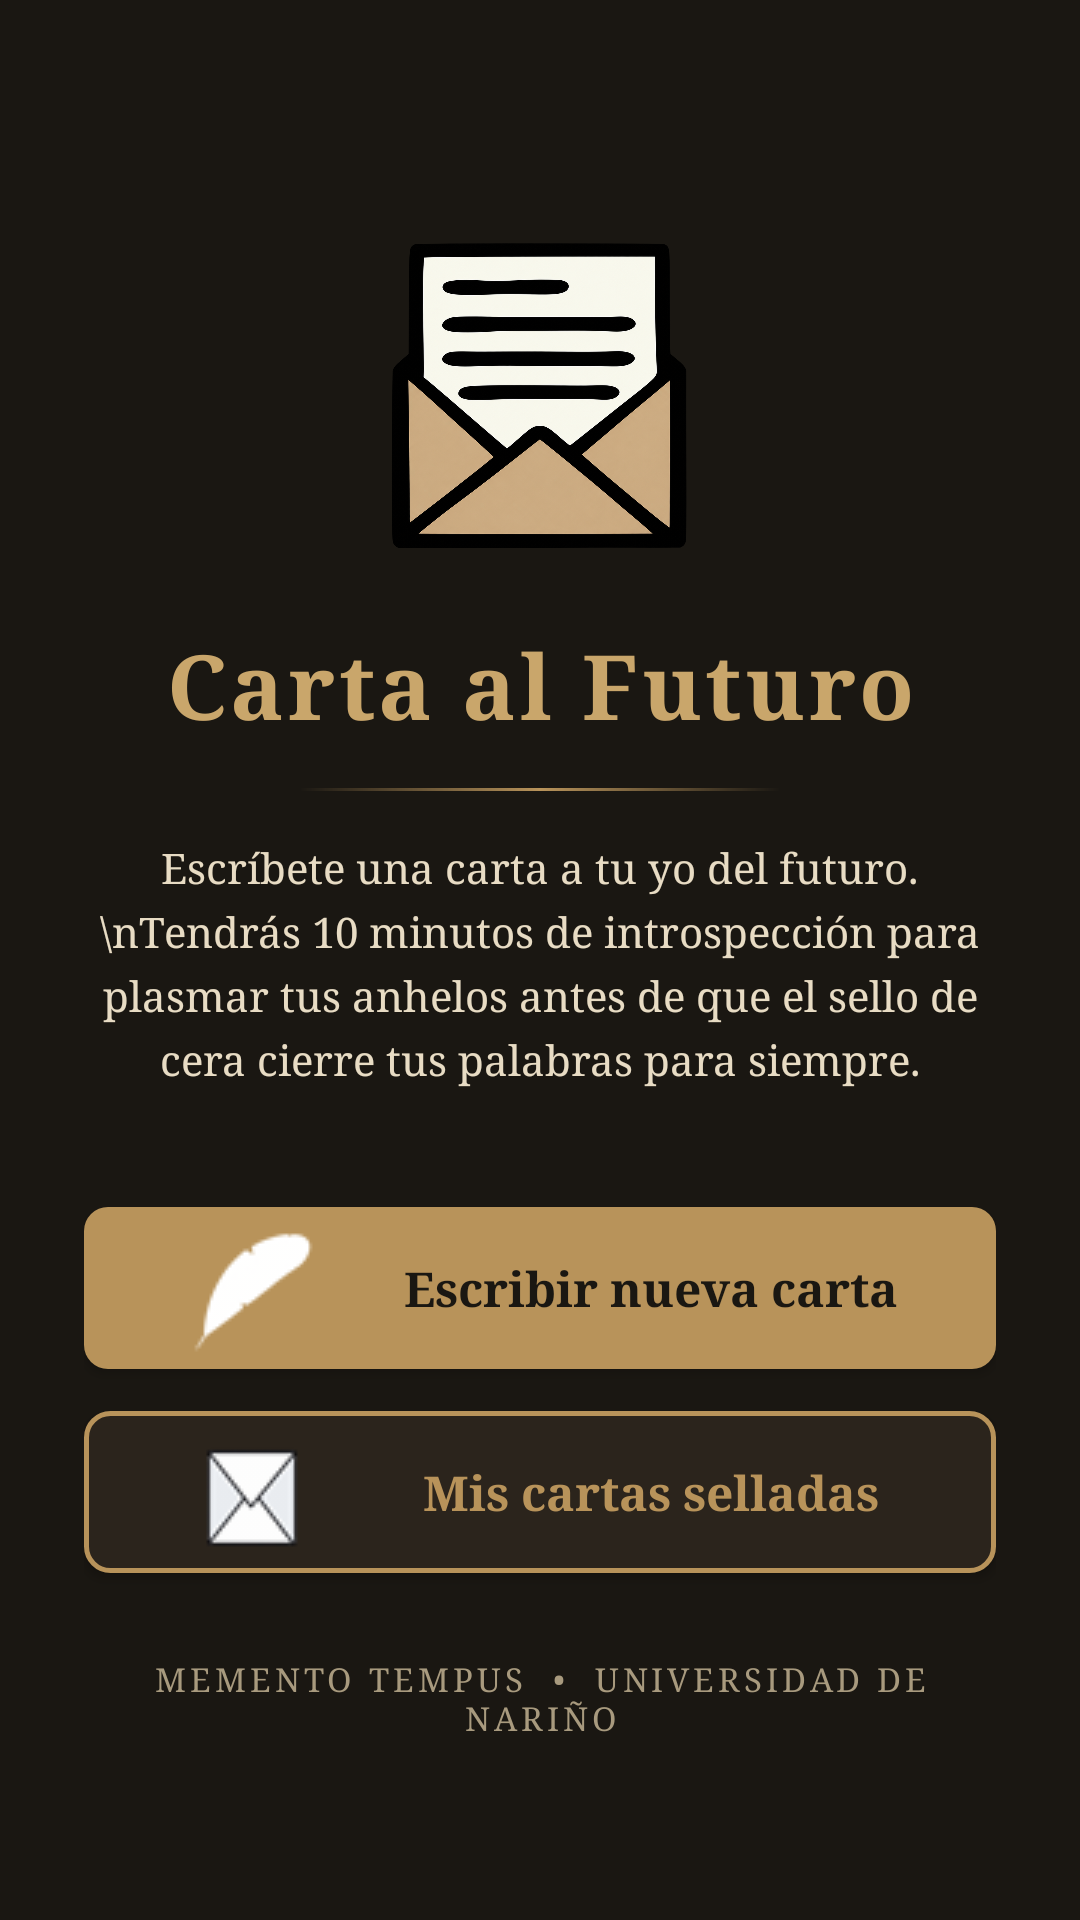

Icons on this 1080*1920 Android screen, each with the point to tap as (x=x, y=y):
Icono de carta: (x=539, y=396)
